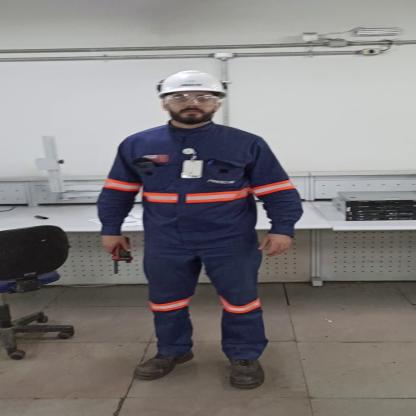Capacete: (150, 68, 231, 97)
